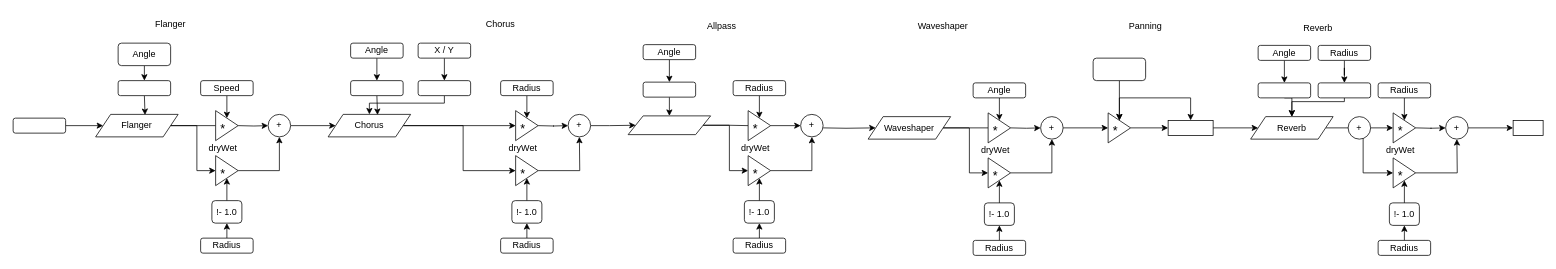
Image size: 1556x269. Some labels were removed from this diagram. Each missing label, with the box of its shape:
Allpass[512]: (627, 115, 711, 135)
Audio Input: (12, 117, 66, 133)
Coefficients: (642, 81, 696, 97)
Damping: (1317, 82, 1371, 98)
Decay: (1257, 82, 1311, 98)
Delay: (1167, 120, 1213, 135)
Depth: (417, 80, 471, 96)
Feedback: (117, 80, 171, 96)
Joystick1 Distance: (1092, 57, 1146, 81)
Out: (1512, 120, 1543, 135)
Rate: (350, 80, 403, 96)
